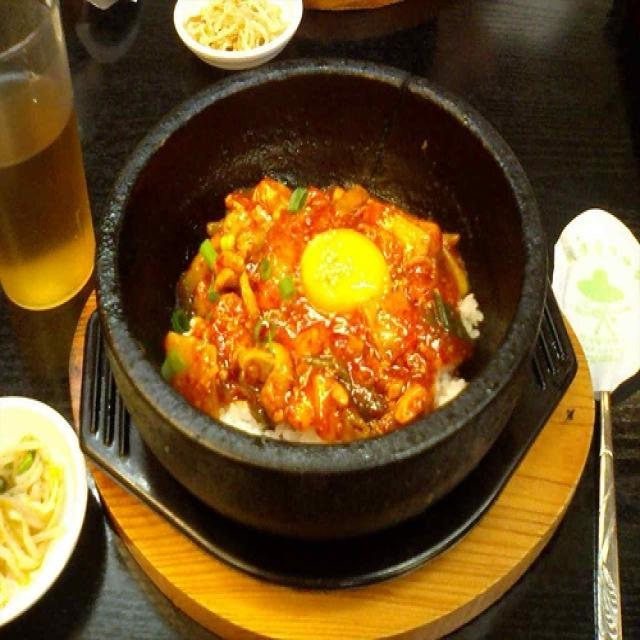鸡肉料理 含炸鸡: (83, 87, 562, 500)
